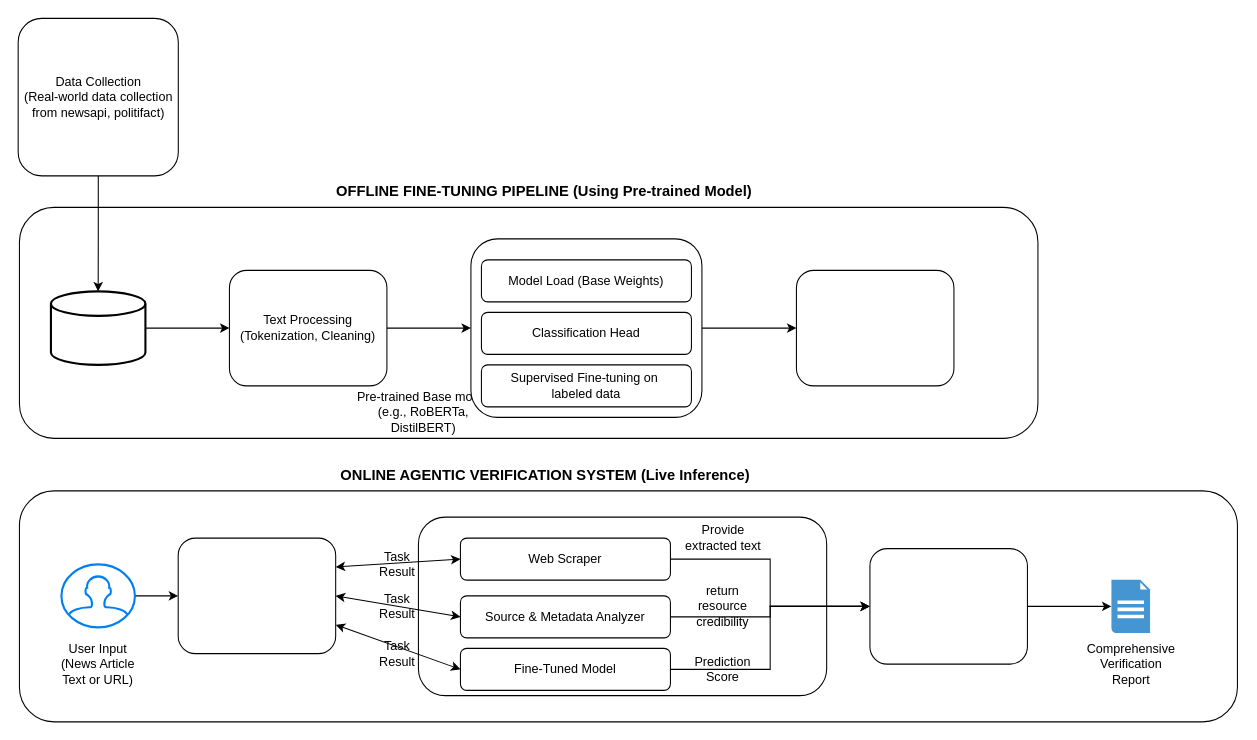
This 1257x740 diagram has some shape labels left out. The centre of each missing label's shape, as x and y in pixels:
Agent Orchestrator: (x=256, y=595)
Finalized Fine-tuned Model: (x=874, y=327)
Raw Dataset: (x=97, y=327)
Synthesis & Report Generation: (x=948, y=606)
